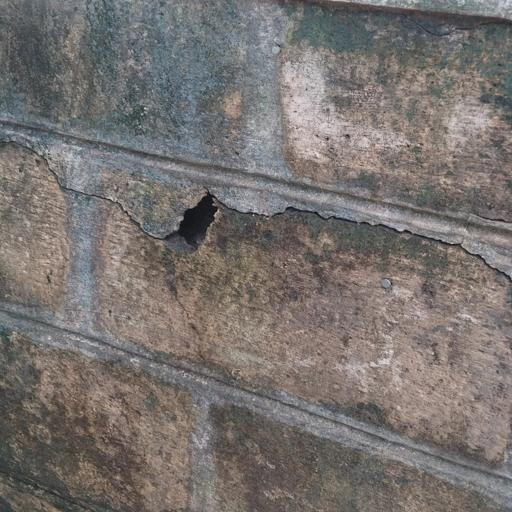major_crack: (0, 120, 512, 297)
